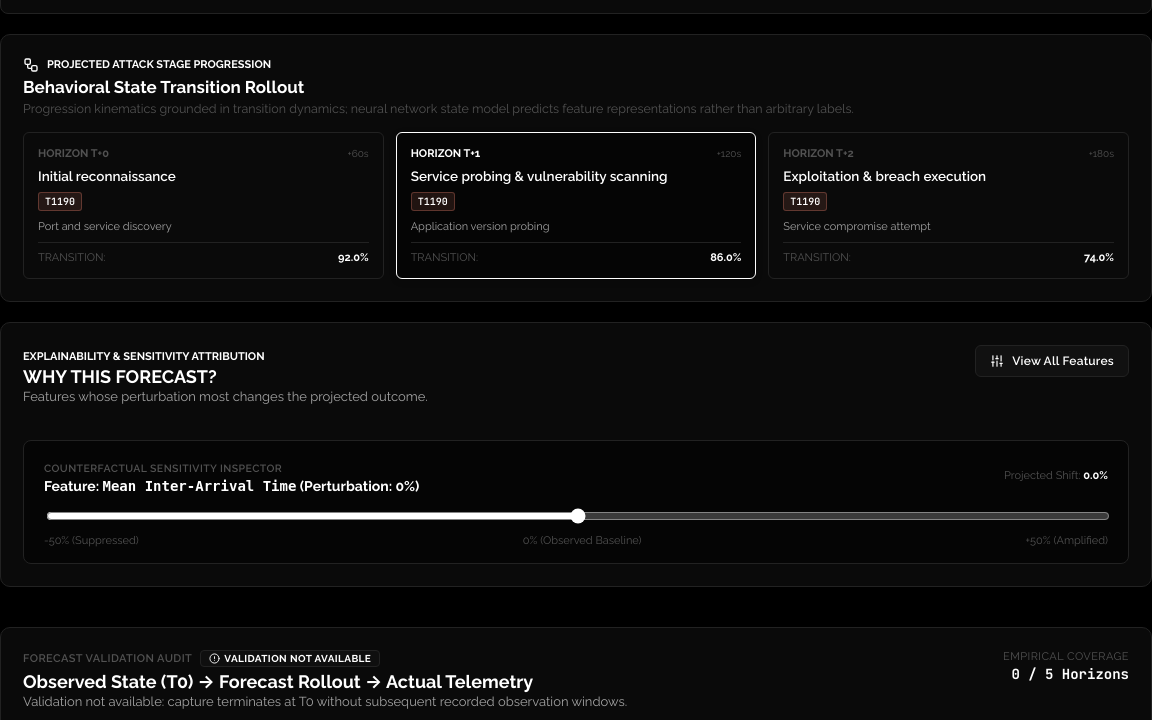
Test: Canonical Adapter & ForecastConsole Integration › opens and closes Explainability Driver Modal
The image size is (1152, 720).
(page scrolled)
Click the button "View All Features" at [1052, 361], box [975,345,1129,377]
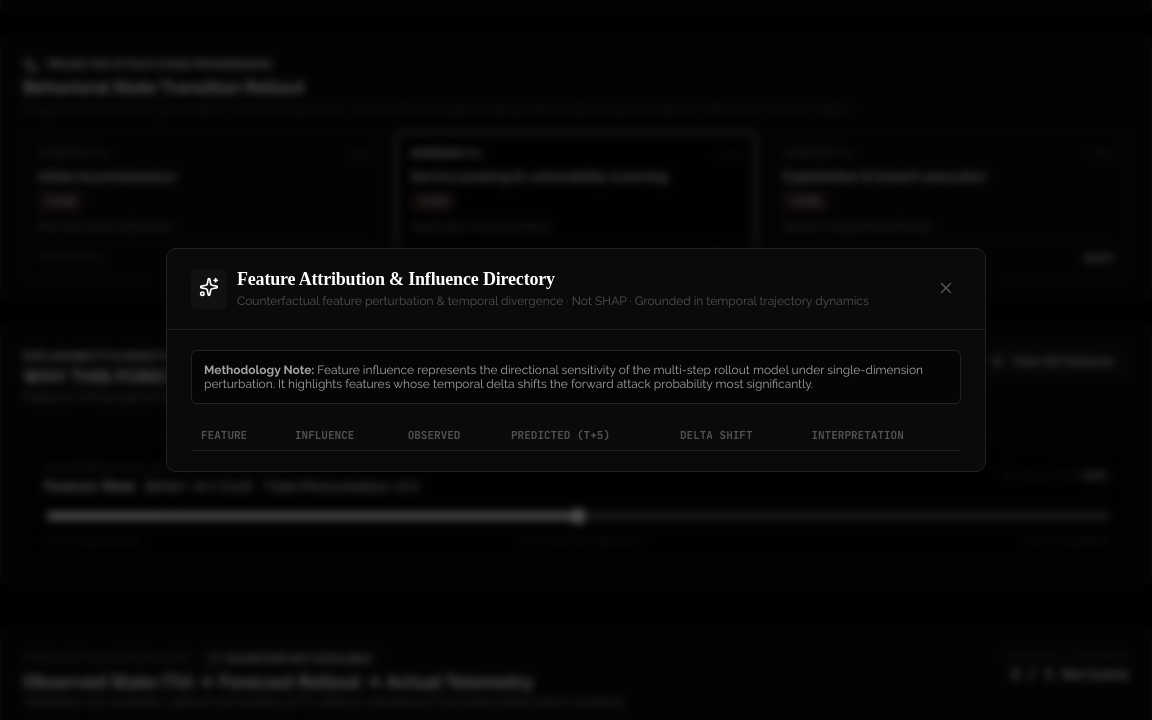
Result: the heading "Feature Attribution & Influence Directory" is shown at [237,269,555,289]
Result: the text "Methodology Note:" is shown at [204,363,314,377]
Click the button named "Close modal" at [946, 289], box [931,272,961,306]
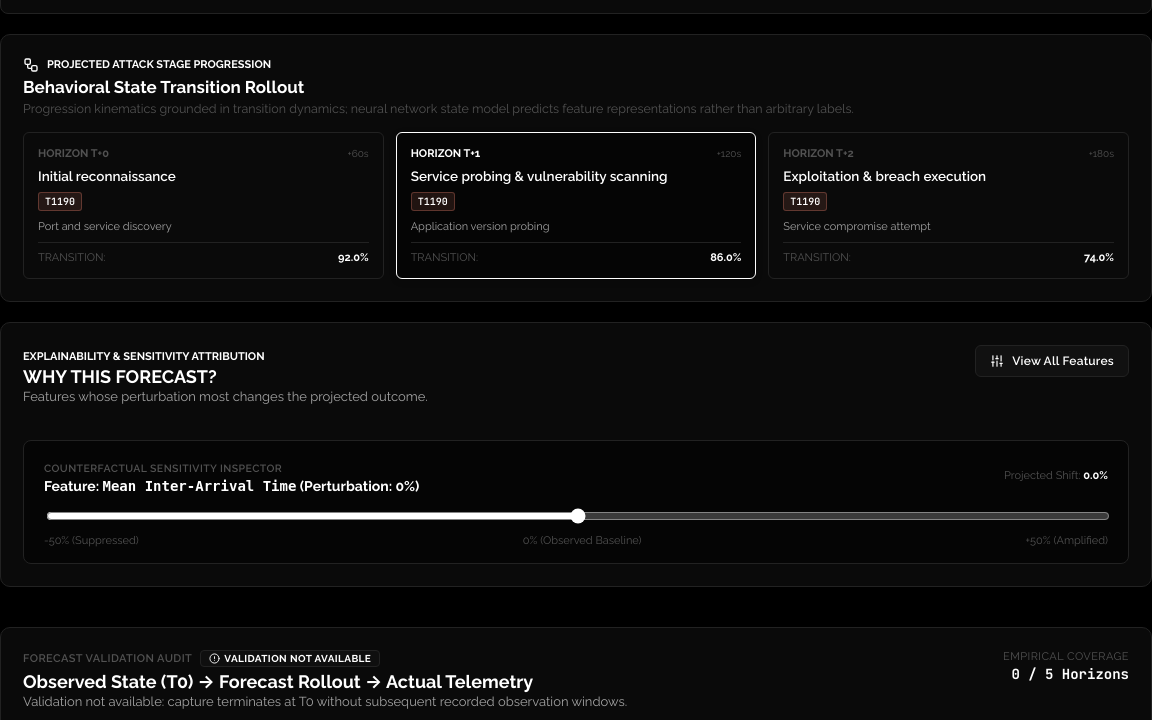
Result: the heading "Feature Attribution & Influence Directory" is gone
